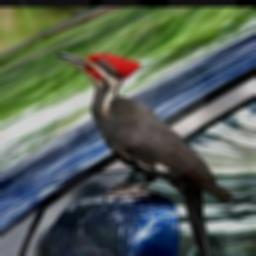Woodpecker: (52, 50, 237, 256)
